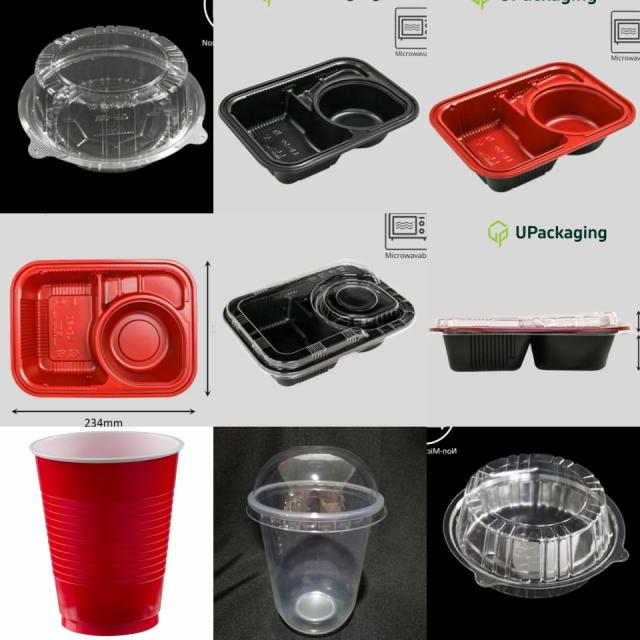Single-Use-Plastic: (30, 431, 184, 634), (18, 26, 208, 172), (444, 454, 629, 598), (430, 62, 636, 191), (246, 446, 386, 634), (10, 260, 196, 397), (219, 58, 419, 184), (224, 262, 415, 385), (430, 312, 630, 371)
